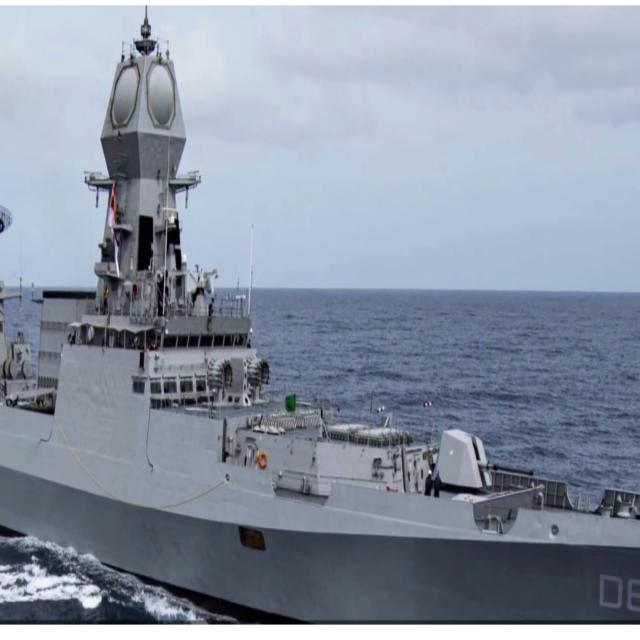OCR: (595, 570, 640, 618)
